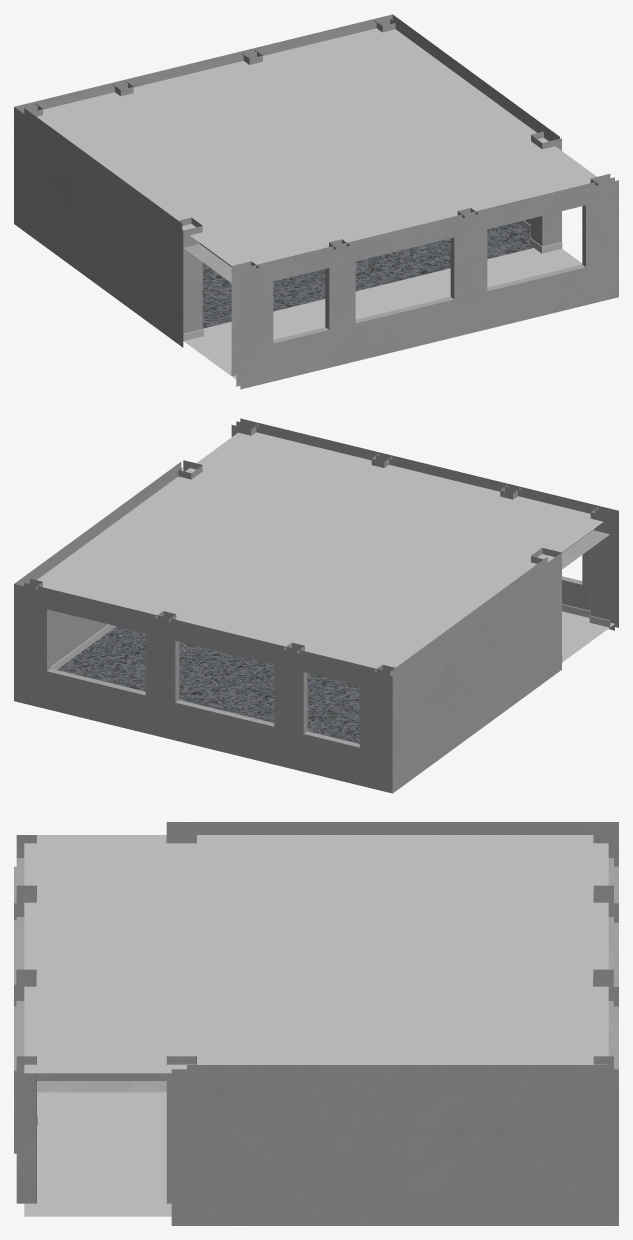
The model's file is SM_ClassroomMesh_01 3.fbx.
3 renders of one model, top to bottom at view 1: azimuth 30°, elevation 25°; view 2: azimuth 150°, elevation 25°; view 3: azimuth 270°, elevation 25°, orthographic. The views are drawn at different scales.
Visible parts, largest first — view 1: SM_ClassroomMesh_01_LOD0; view 2: SM_ClassroomMesh_01_LOD0; view 3: SM_ClassroomMesh_01_LOD0.
Boxes of the visible parts, box(x1,y1,x2,y2) form: SM_ClassroomMesh_01_LOD0: box(14, 14, 618, 389); SM_ClassroomMesh_01_LOD0: box(14, 418, 618, 793); SM_ClassroomMesh_01_LOD0: box(14, 822, 618, 1225).
Size of the model in its own units: 1150 by 1190 by 340.
